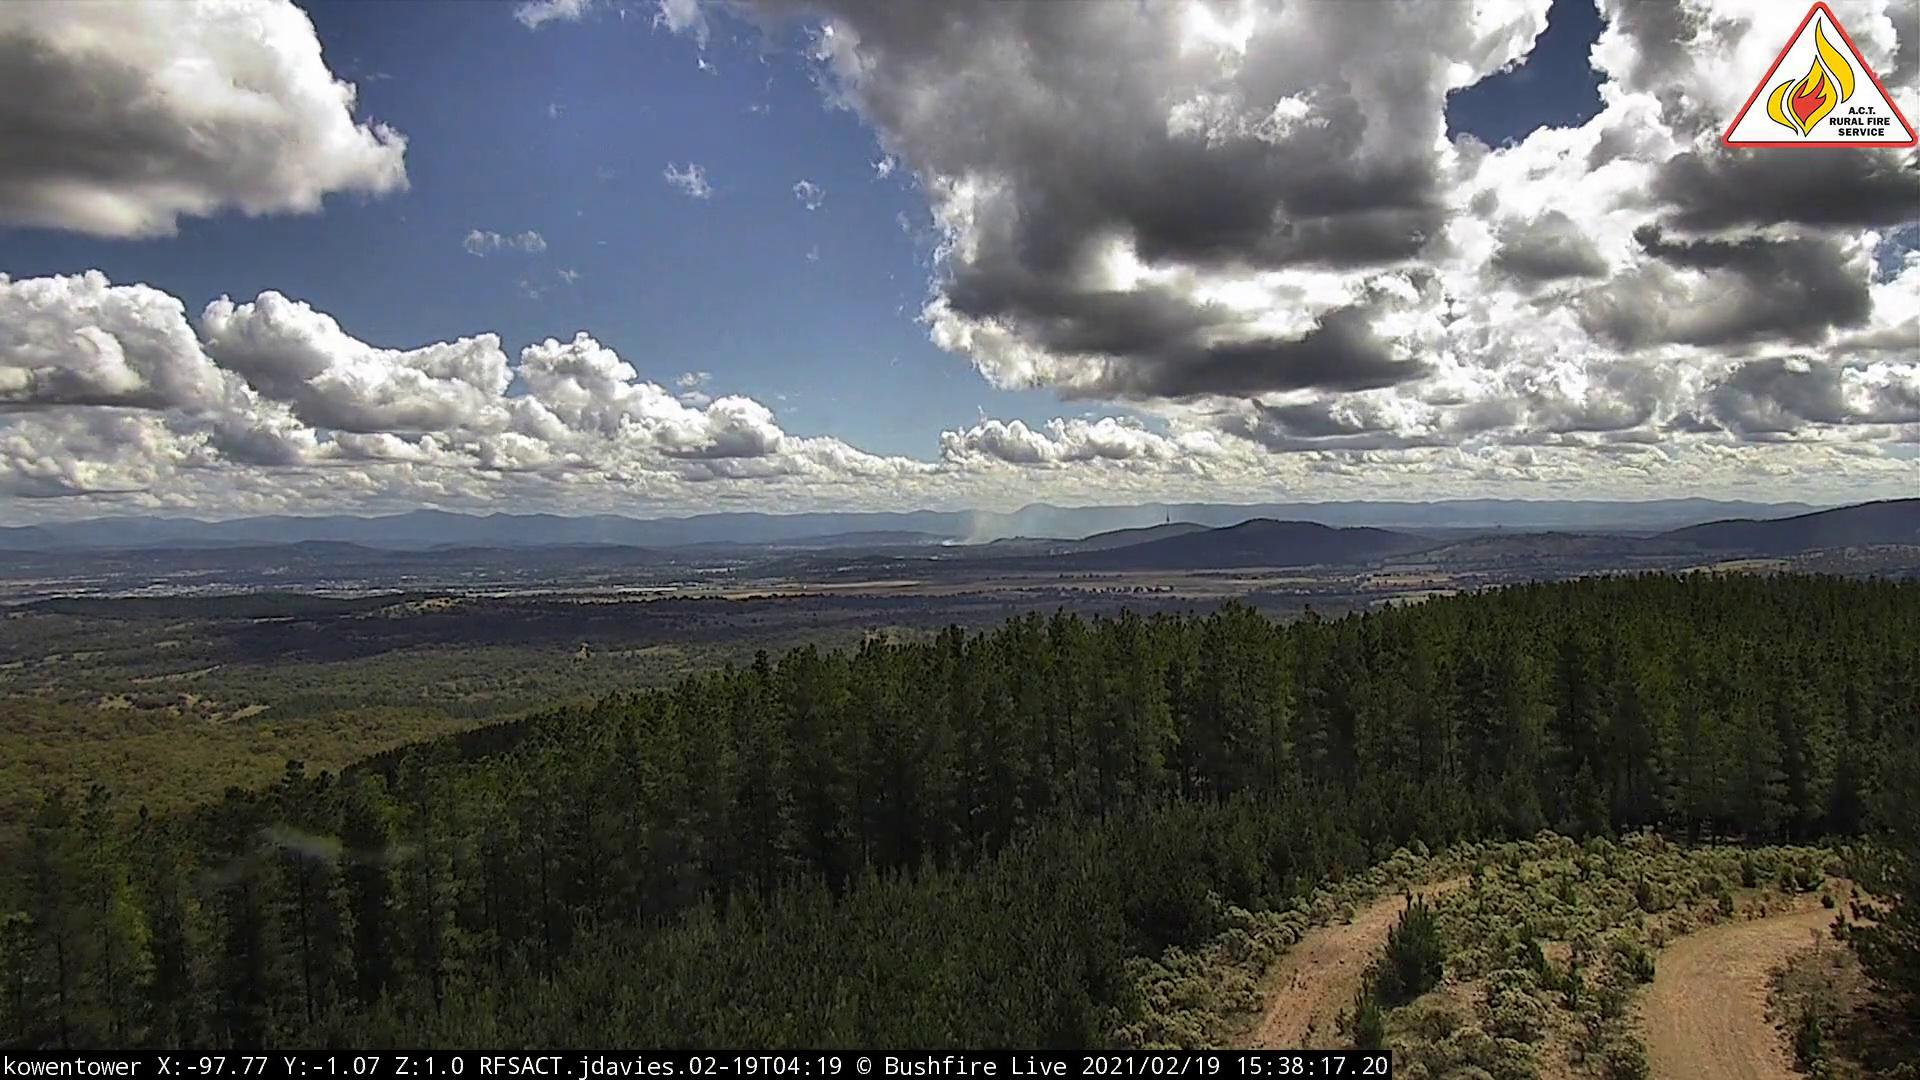instance_salient_object: (935, 502, 1029, 553)
